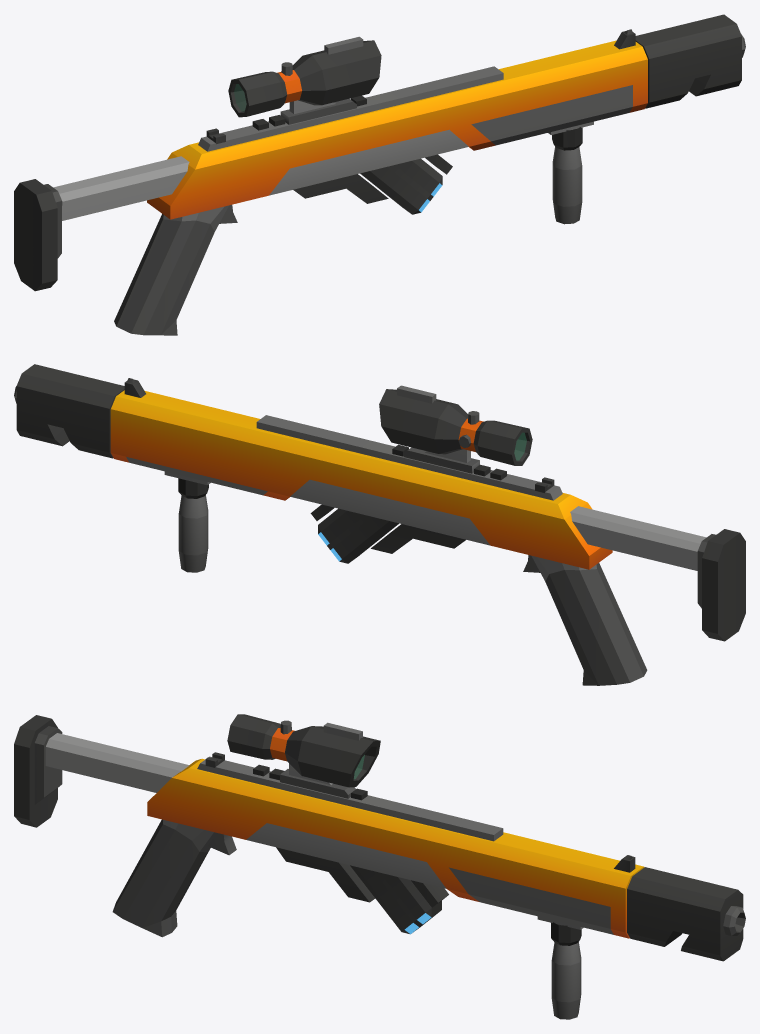
Rendered from DMR_mesh.fbx.
The picture shows the model from 3 angles, top to bottom: view 1: azimuth 30°, elevation 25°; view 2: azimuth 150°, elevation 25°; view 3: azimuth 330°, elevation 25°; orthographic projection.
Visible parts, largest first — view 1: DMR_mesh, ACOG_mesh1, DMR_Silencer_mesh, Foregrip_mesh, Mag_M_mesh, DMRIronSights_mesh; view 2: DMR_mesh, ACOG_mesh1, DMR_Silencer_mesh, Foregrip_mesh, Mag_M_mesh, DMRIronSights_mesh; view 3: DMR_mesh, DMR_Silencer_mesh, ACOG_mesh1, Foregrip_mesh, Mag_M_mesh.
Boxes of the visible parts, x1,y1,x2,y2 form: DMR_mesh: [14, 40, 647, 335]; ACOG_mesh1: [228, 36, 381, 124]; DMR_Silencer_mesh: [635, 14, 745, 108]; Foregrip_mesh: [548, 121, 593, 224]; Mag_M_mesh: [360, 158, 442, 214]; DMRIronSights_mesh: [206, 29, 635, 144]; DMR_mesh: [110, 390, 745, 685]; ACOG_mesh1: [379, 385, 532, 473]; DMR_Silencer_mesh: [14, 364, 124, 458]; Foregrip_mesh: [164, 471, 210, 572]; Mag_M_mesh: [318, 508, 398, 563]; DMRIronSights_mesh: [124, 378, 554, 492]; DMR_mesh: [14, 715, 644, 938]; DMR_Silencer_mesh: [627, 867, 745, 961]; ACOG_mesh1: [227, 714, 380, 798]; Foregrip_mesh: [537, 916, 583, 1019]; Mag_M_mesh: [350, 865, 441, 934].
Bounding box in the file's own units: 90.62 × 29.95 × 6.29.
3 materials, 1 textured.
